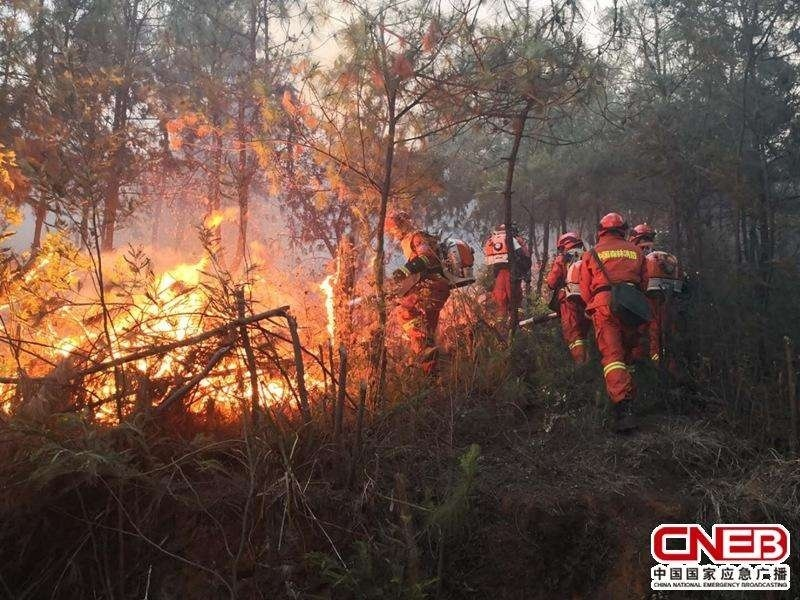fire: (1, 197, 341, 426)
